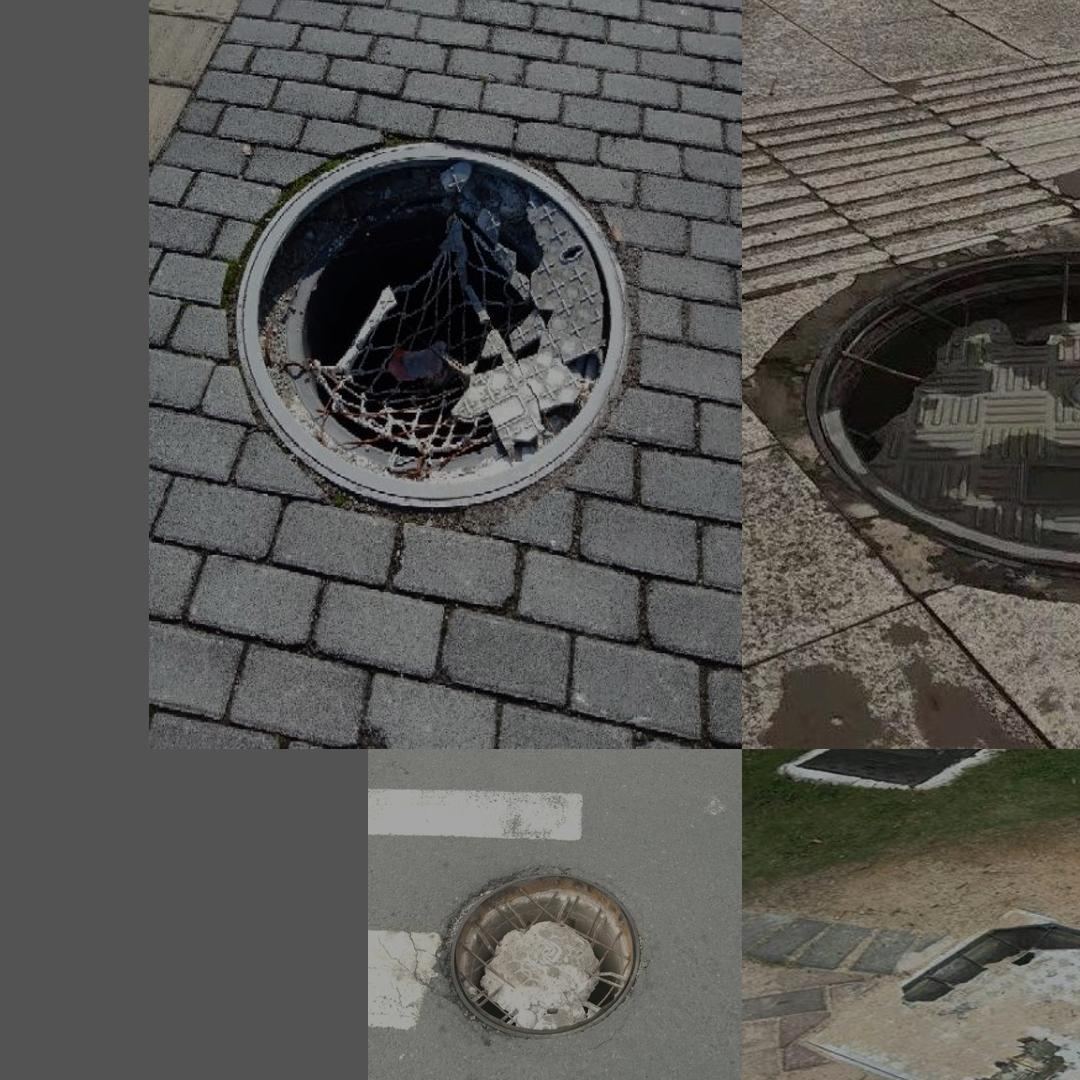broke: (203, 113, 653, 536), (802, 241, 1080, 581), (813, 893, 1080, 1080), (434, 854, 649, 1043)
